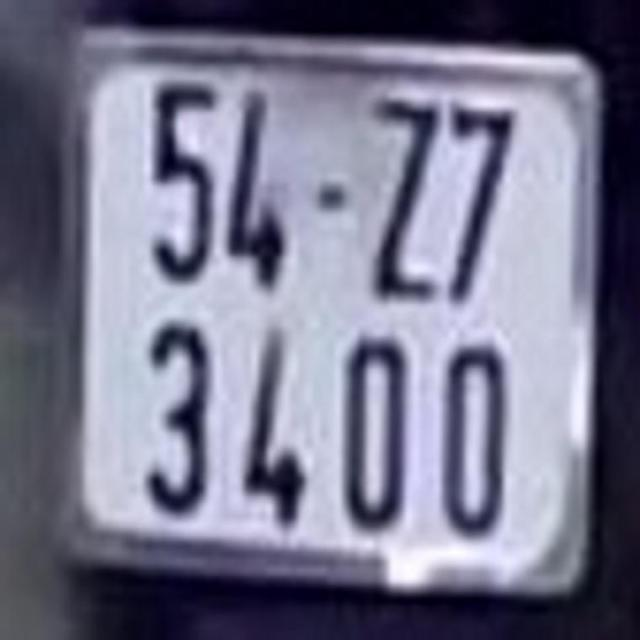0: (443, 347, 503, 527), (343, 338, 401, 520)
3: (148, 320, 206, 509)
4: (250, 334, 313, 516), (232, 102, 283, 284)
5: (152, 87, 212, 272)
7: (450, 106, 521, 304)
Z: (373, 102, 435, 294)
